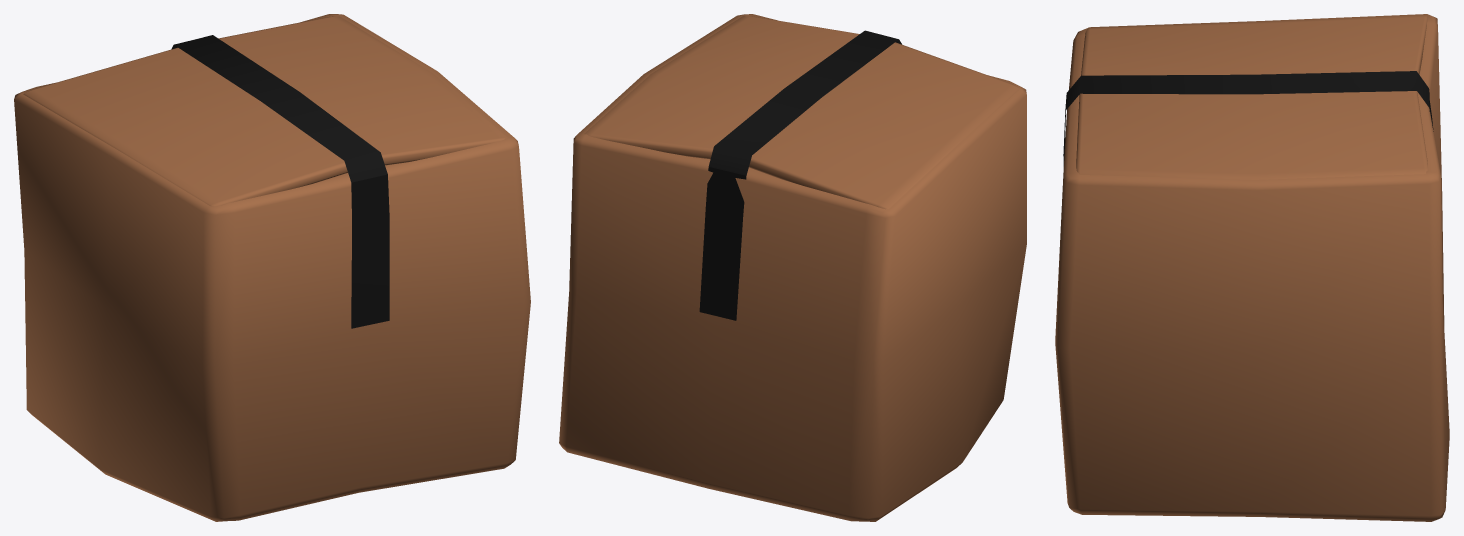
Rendered from Parcel_v1.FBX.
3 renders of one model, left to right at view 1: azimuth 30°, elevation 25°; view 2: azimuth 150°, elevation 25°; view 3: azimuth 270°, elevation 25°, orthographic. The views are drawn at different scales.
Visible parts, largest first — view 1: Box_spare; view 2: Box_spare; view 3: Box_spare.
Boxes of the visible parts, x1,y1,x2,y2 form: Box_spare: (14,14,530,521); Box_spare: (559,14,1026,521); Box_spare: (1055,14,1449,521).
Size of the model in its own units: 44.59 by 41.91 by 41.84.
